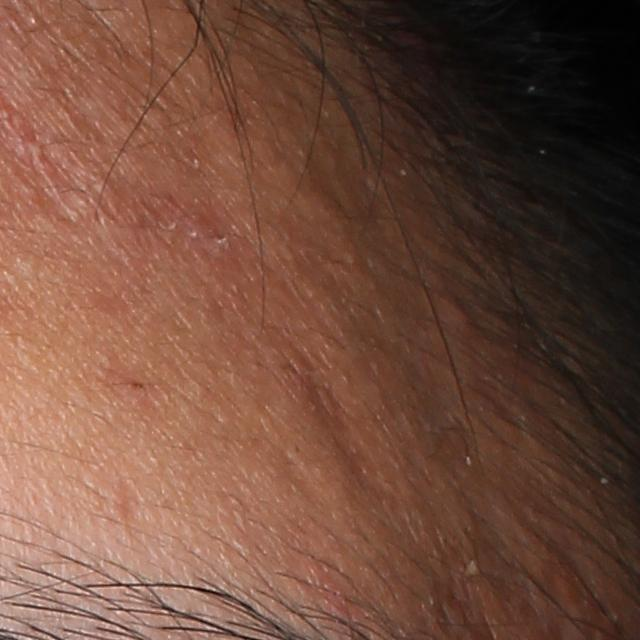papule: (433, 289, 482, 332)
